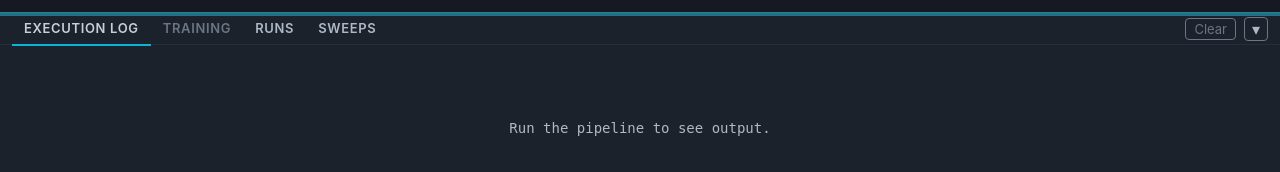
Scenario: plugin panels in the dock › hides Clear on a plugin tab — it empties the log, not the plugin
Click the button with test id "plugin-dock-tab-sweeps:main". click: (347, 28)
box: [306,12,388,46]
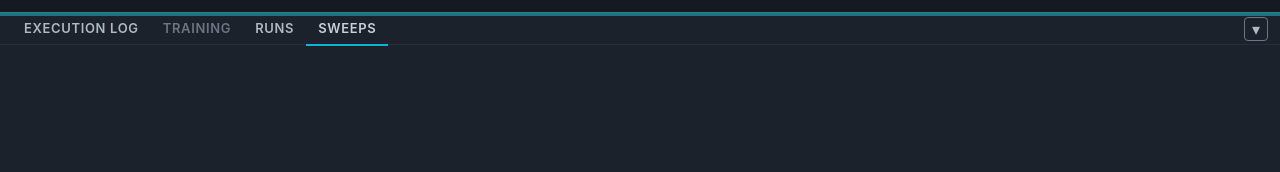
Now the button "Clear" is gone
